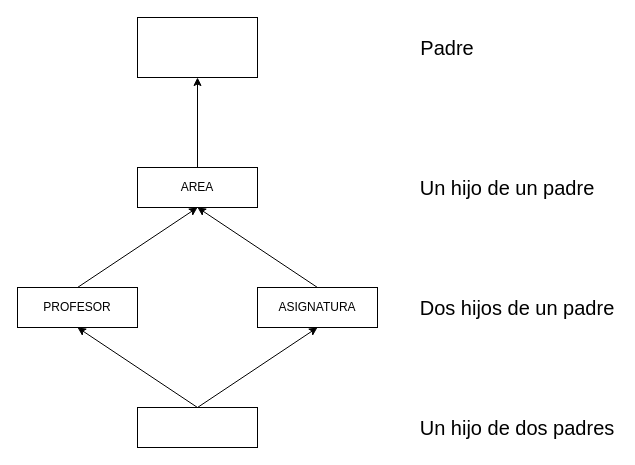
Some shapes in this 635 by 465 pixel diagram are drawn without their labels. The shapes that lost their labels are listed below. From the top down, each one's centre as x and y in pixels, then its label:
At [197,47]: "DEPARTAMENTO".
At [197,427]: "PLAN_DOCENTE".
